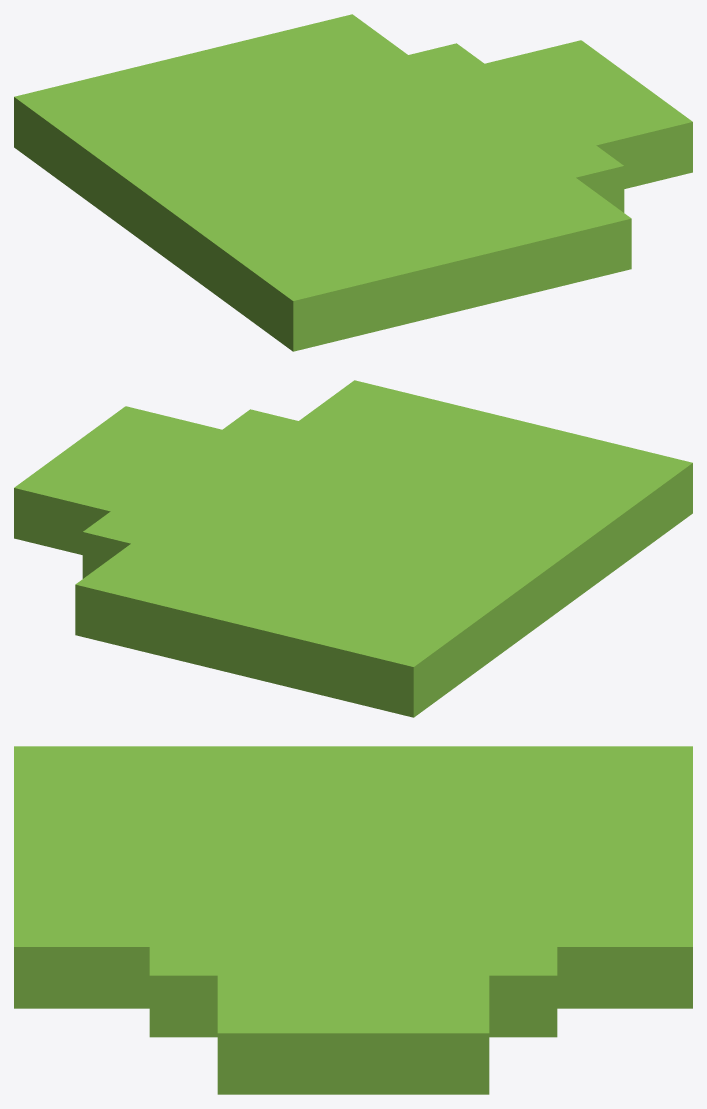
The model's file is x_zem_0_29_1_rmstrd.fbx.
3 renders of one model, top to bottom at view 1: azimuth 30°, elevation 25°; view 2: azimuth 150°, elevation 25°; view 3: azimuth 270°, elevation 25°, orthographic. The views are drawn at different scales.
Visible parts, largest first — view 1: x_zem_0_29_1_rmstrd1; view 2: x_zem_0_29_1_rmstrd1; view 3: x_zem_0_29_1_rmstrd1.
Boxes of the visible parts, x1=… form: x_zem_0_29_1_rmstrd1: x1=14, y1=14, x2=692, y2=351; x_zem_0_29_1_rmstrd1: x1=14, y1=380, x2=692, y2=717; x_zem_0_29_1_rmstrd1: x1=14, y1=746, x2=692, y2=1094.
Bounding box in the file's own units: 10 × 1 × 10.
